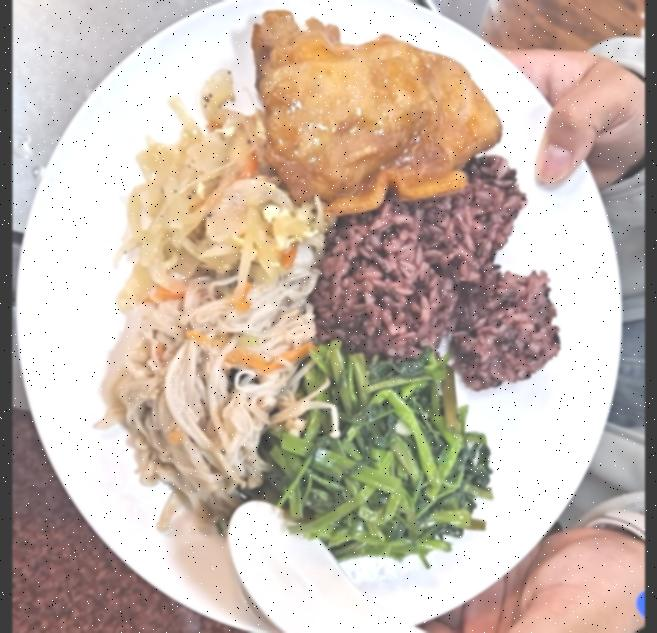grilled chicken leg steak: (246, 8, 507, 212)
plate: (12, 0, 618, 633)
purple rice: (306, 154, 563, 390)
side dish: (262, 348, 487, 564), (119, 280, 314, 504), (121, 110, 315, 276)
